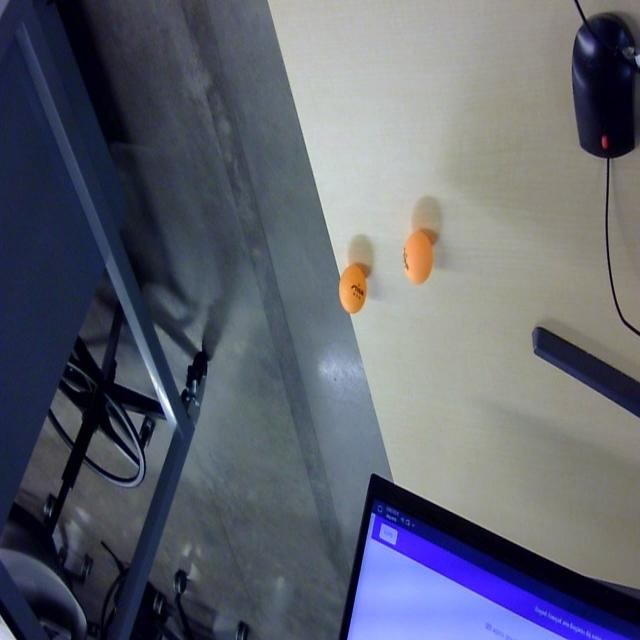ball: (401, 226, 435, 286), (338, 261, 367, 316)
